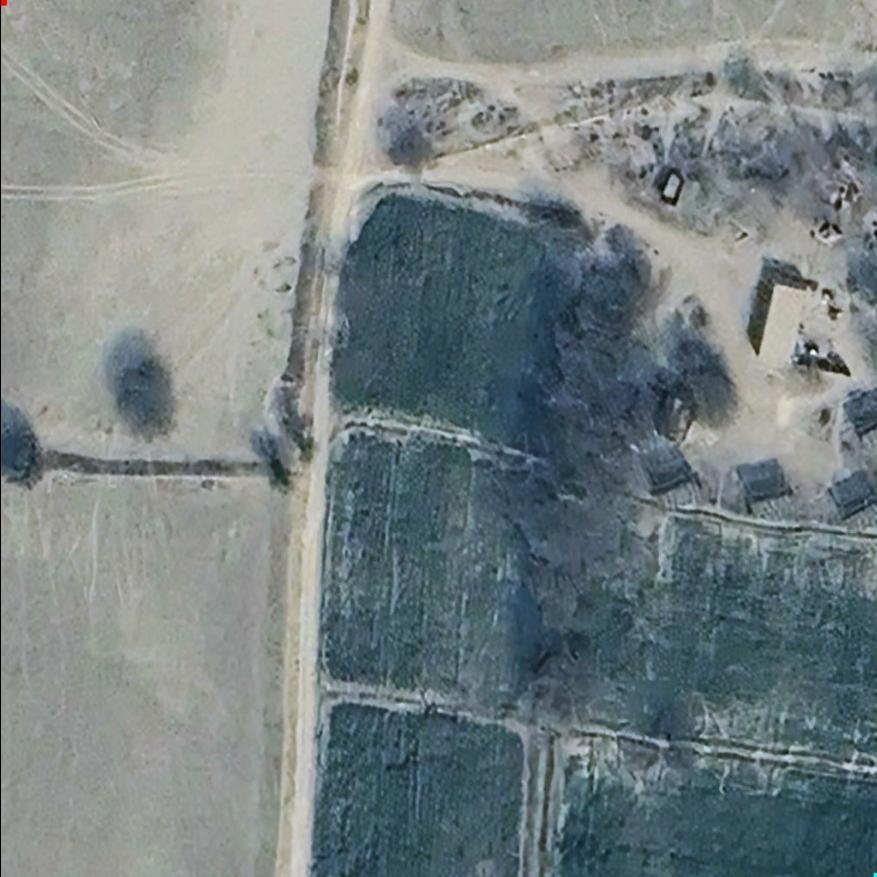Solarpanel: (650, 471, 708, 519), (745, 490, 801, 522), (837, 500, 875, 542)
